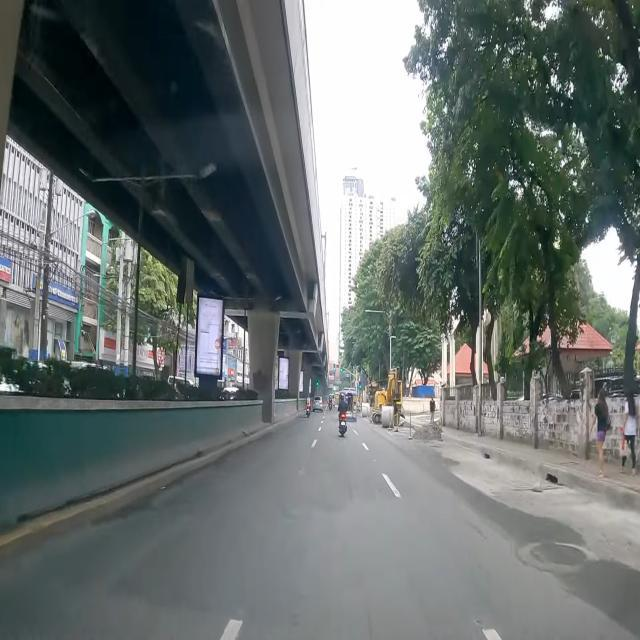car: (312, 396, 323, 412)
jeepney: (340, 389, 358, 422)
motorcycle: (338, 394, 348, 436), (306, 391, 311, 419), (328, 396, 333, 410)
